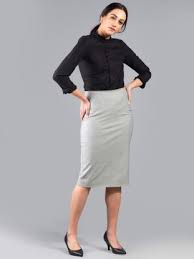C_skirt: (69, 79, 142, 189)
